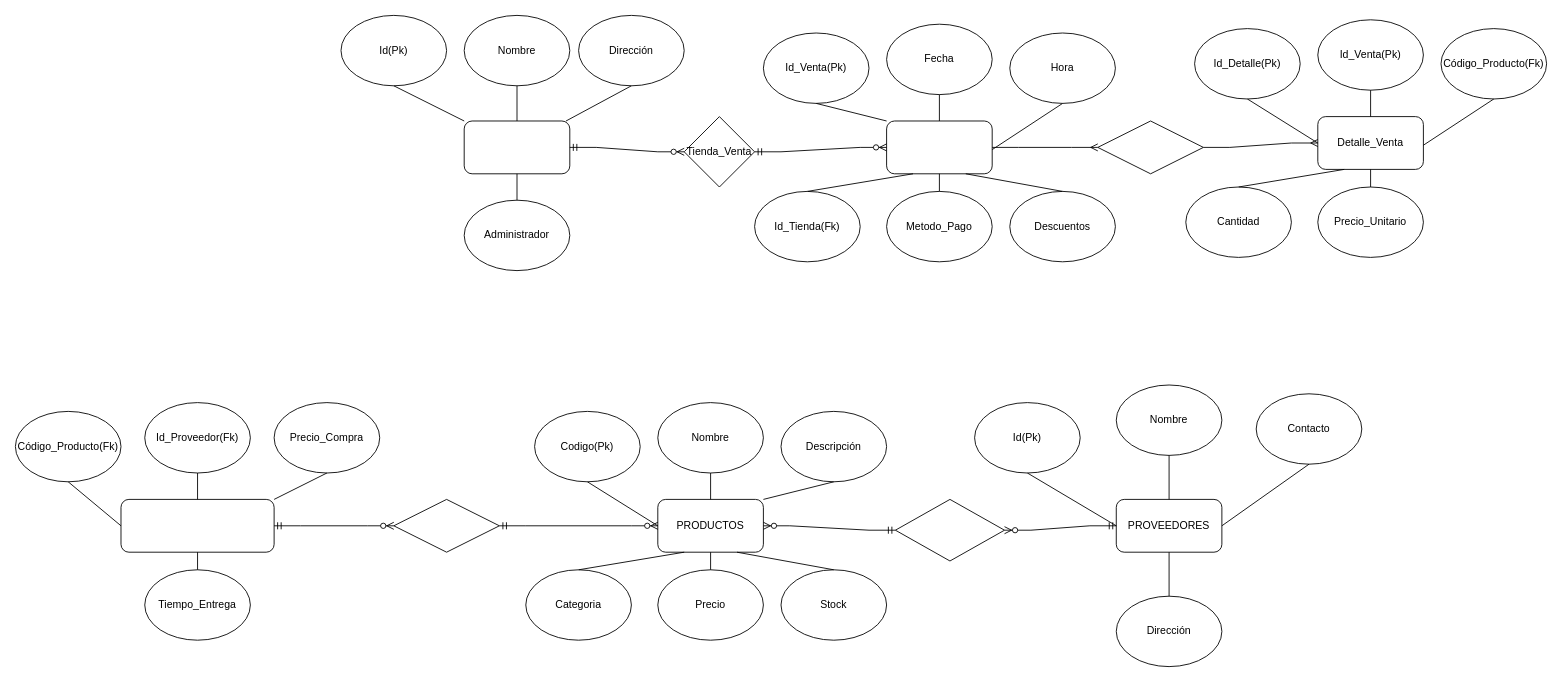
Some shapes in this 1562 by 682 pixel diagram are drawn without their labels. Each missing label, with the centre of its shape:
"PRODUCTOS_PROVEEDOR" belongs at (x=197, y=525).
"proveedor_Producto" belongs at (x=950, y=530).
"Relationship" belongs at (x=446, y=525).
"TIENDAS" belongs at (x=516, y=147).
"VENTA" belongs at (x=939, y=147).
"Venta_Detalle" belongs at (x=1150, y=147).
